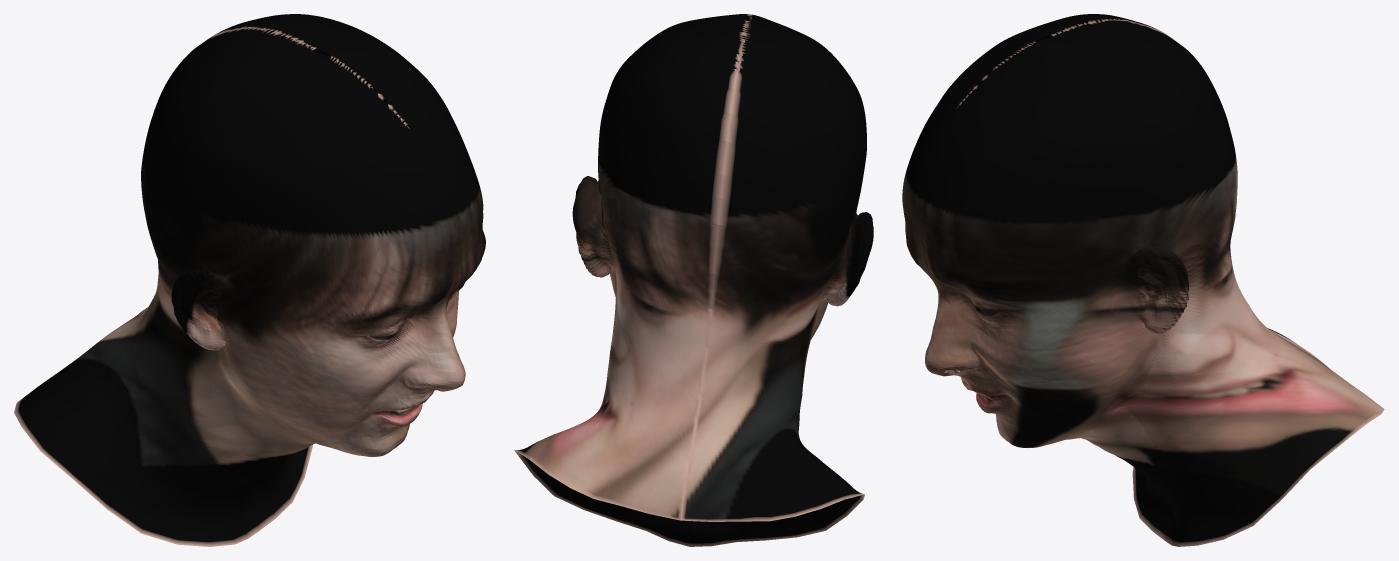
File: mesh_coarse_detail.obj
The picture shows the model from 3 angles, left to right: view 1: azimuth 30°, elevation 25°; view 2: azimuth 150°, elevation 25°; view 3: azimuth 270°, elevation 25°; orthographic projection. The views are drawn at different scales.
Bounding box in the file's own units: 0.2147 × 0.3248 × 0.2789.
